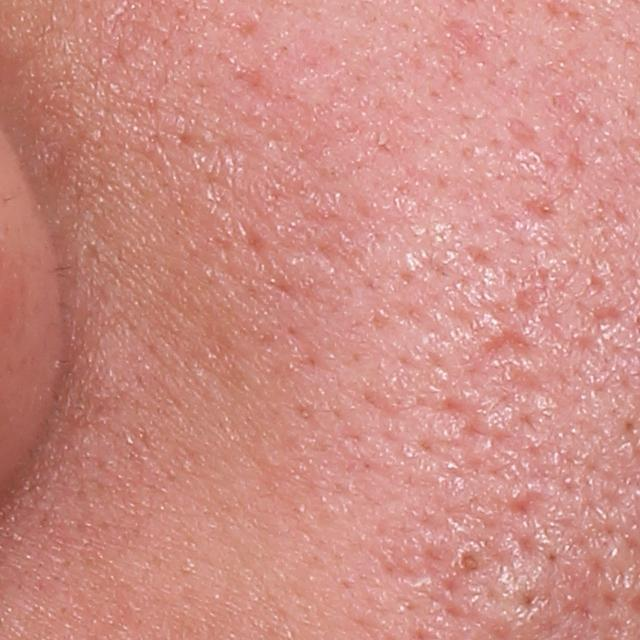atrophic_scar: (174, 134, 243, 198), (227, 61, 289, 105), (473, 327, 540, 361), (500, 488, 545, 521)
